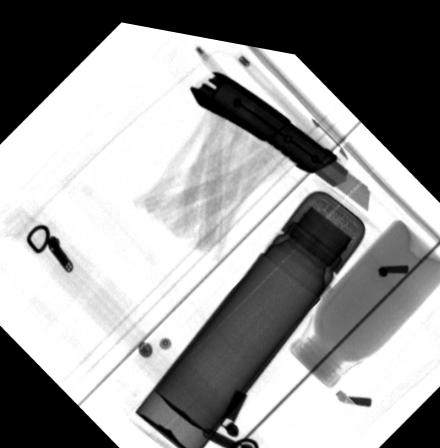Knife: (188, 61, 371, 198)
